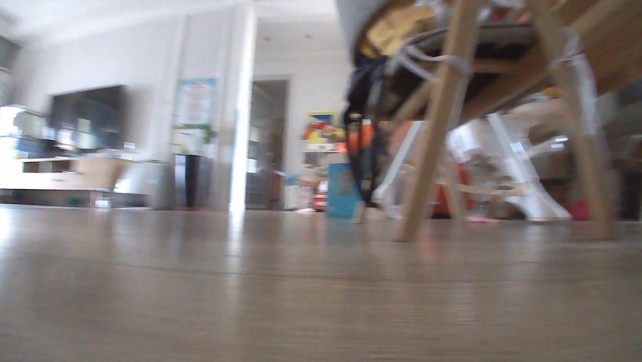TV_stand: (18, 156, 132, 189)
